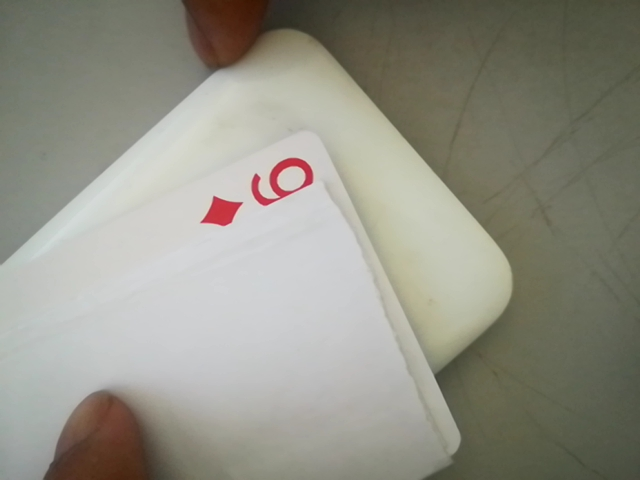fk 9: (191, 152, 329, 228)
